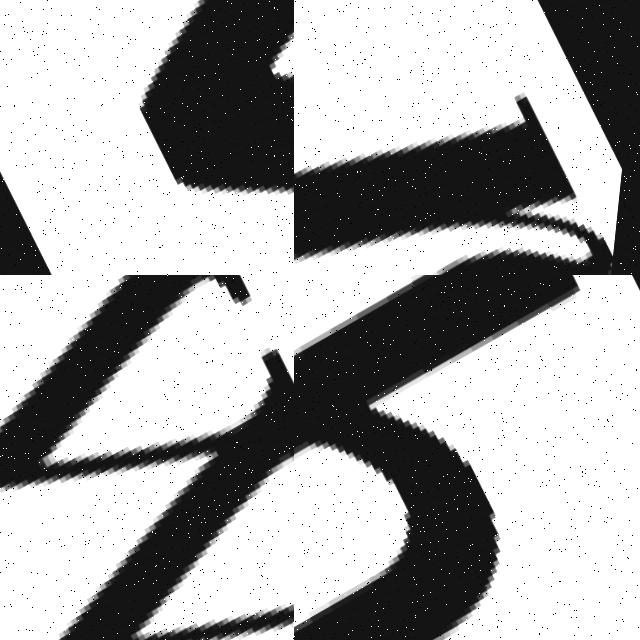H: (294, 275, 580, 640)
R: (294, 0, 640, 275)
W: (0, 275, 294, 640), (0, 0, 294, 275)
